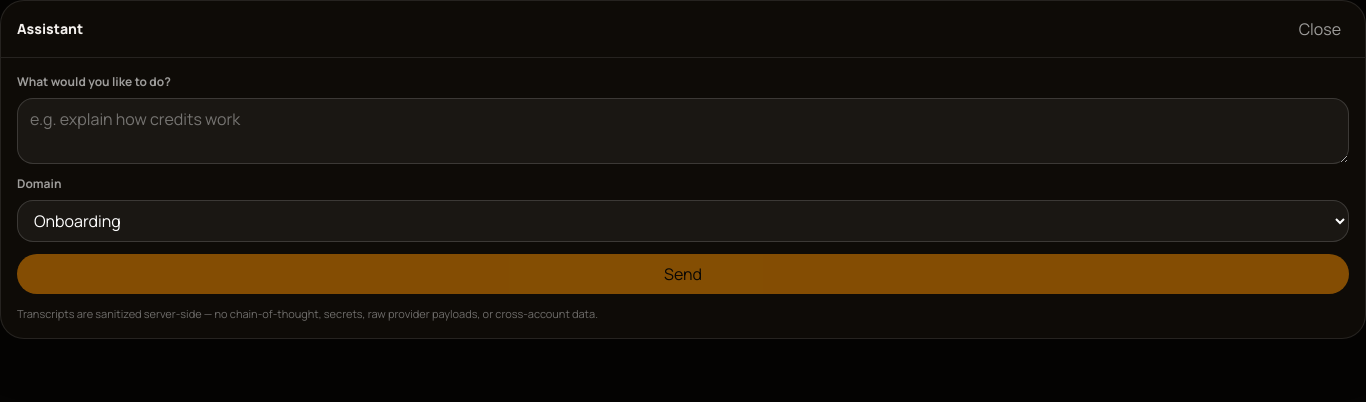
Scenario: AssistantPanel › warns a guest that Execute is restricted before sending
In the text box labelled "What would you like to do?": coordinates (683, 131) [17,98,1349,164], type "publish the first post"
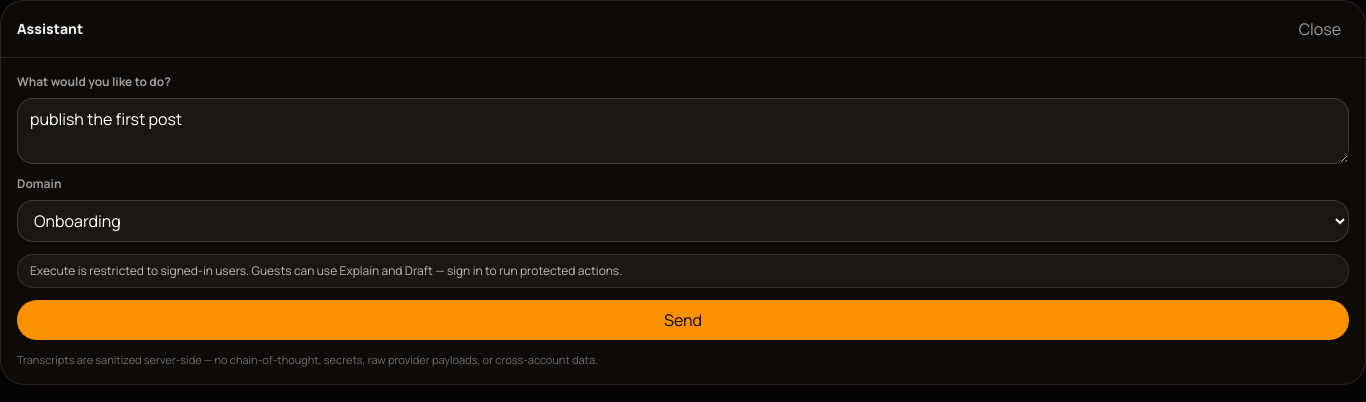
Now the text "Execute is restricted to signed-in users" is shown, box [30,262,622,279]
